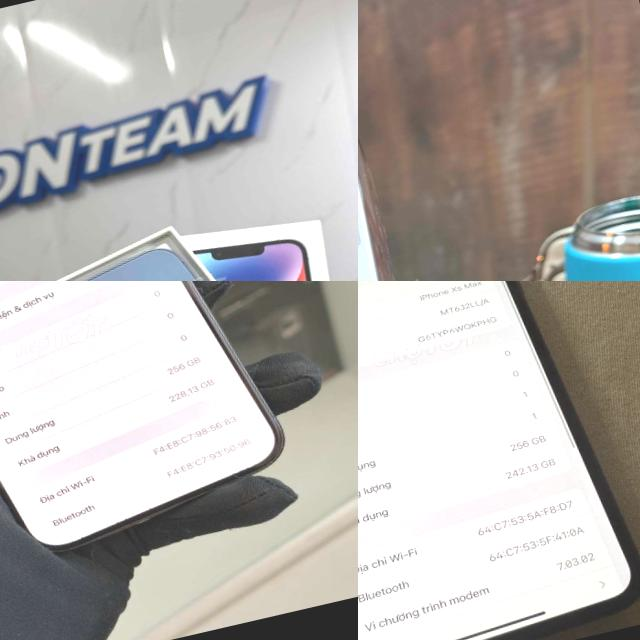gen_14: (16, 206, 348, 281)
gen_15: (0, 281, 297, 582), (358, 67, 465, 281)
gen_x_xs: (358, 281, 640, 640)
